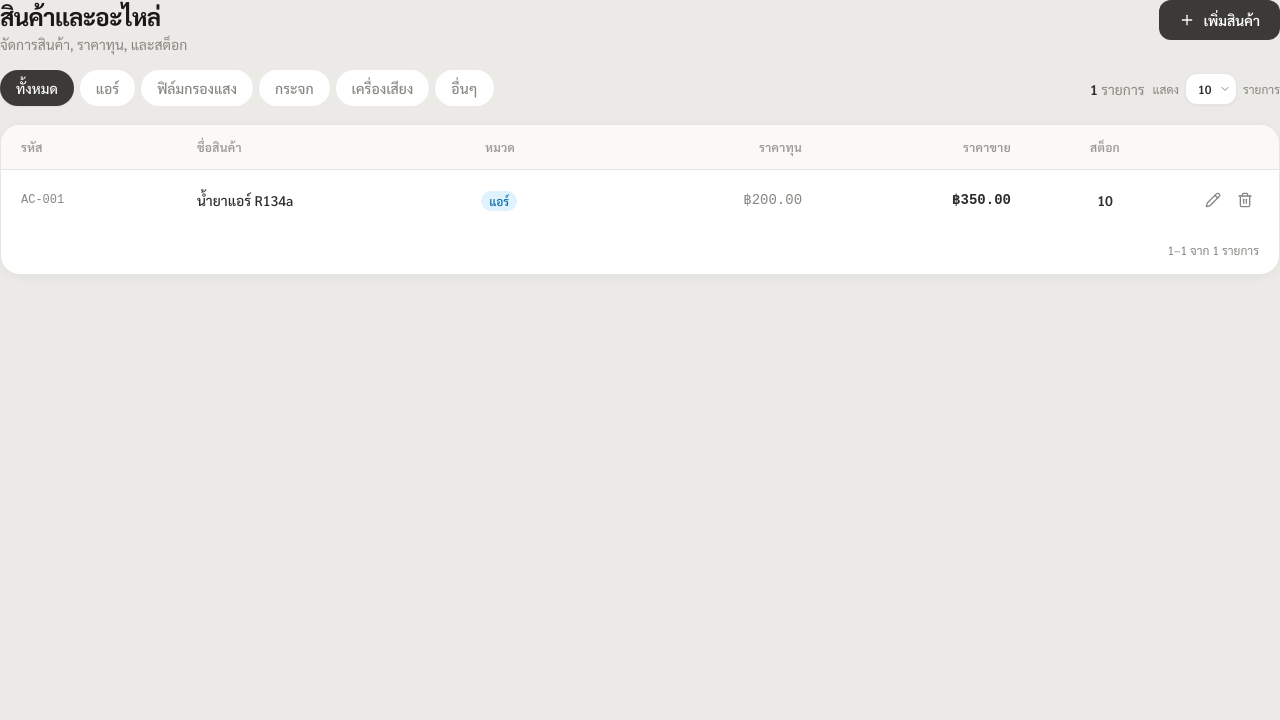
Test case: ProductsPage › closes the AlertDialog when ยกเลิก is clicked
This screenshot has width=1280, height=720.
Click the button titled "ลบ" at (1245, 200), box 1231,186 -> 1259,214
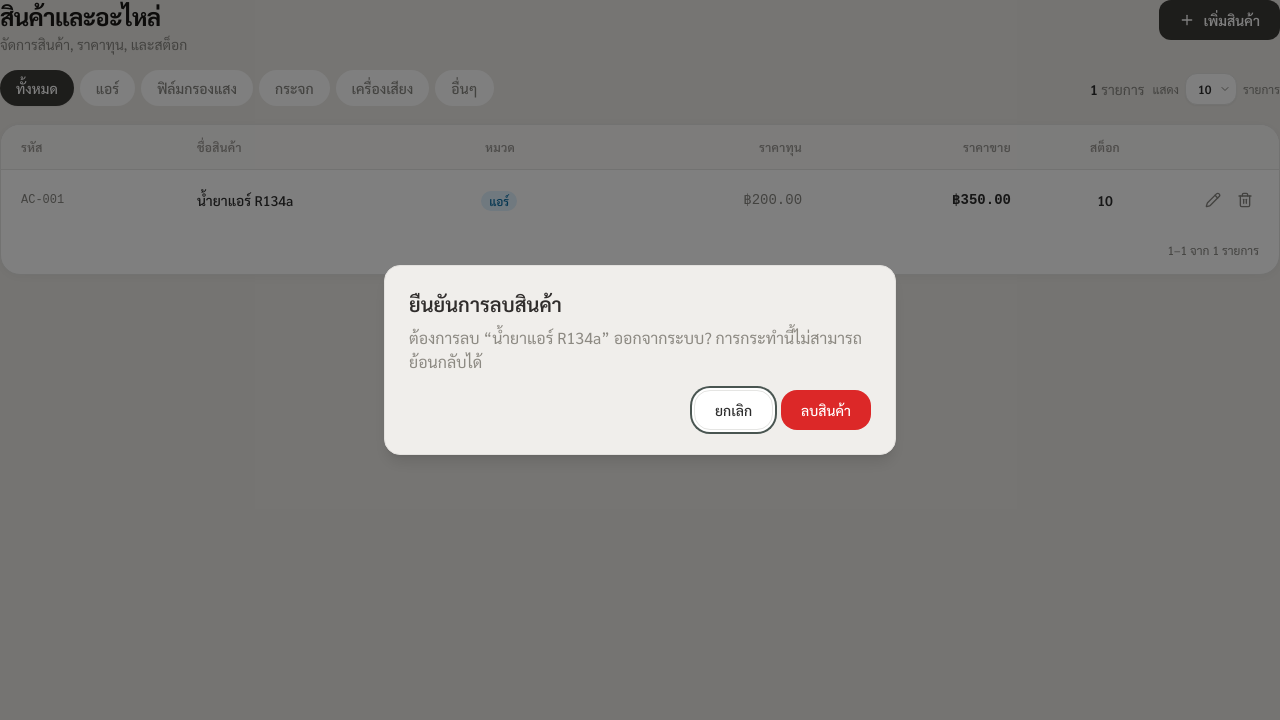
Result: the heading "ยืนยันการลบสินค้า" is shown at 409,291 -> 562,317
Click the button "ยกเลิก" at (734, 410), box 694,390 -> 773,430
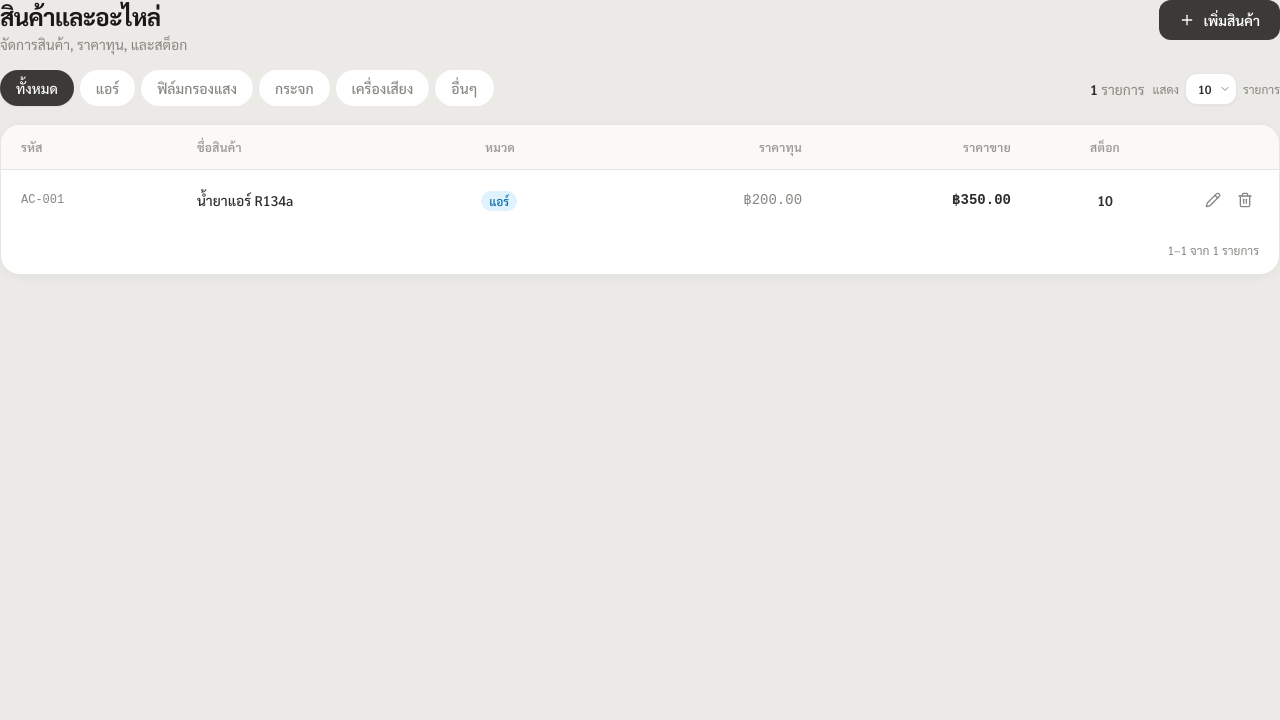
Result: the heading "ยืนยันการลบสินค้า" is gone
